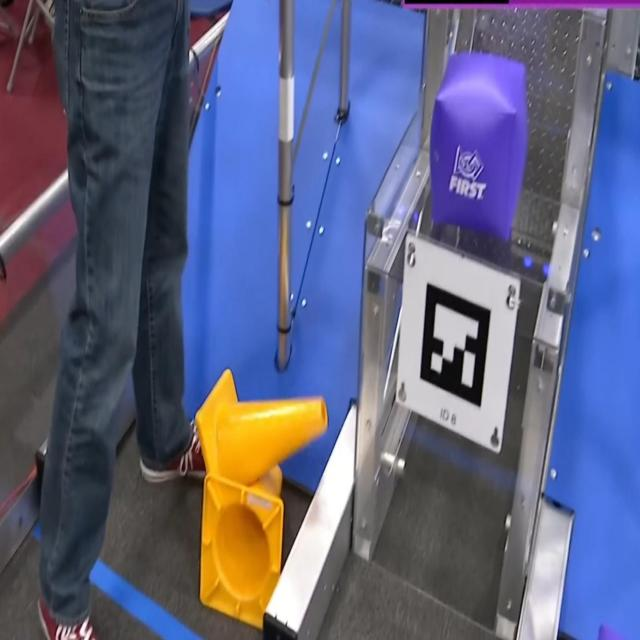frc_cone: (191, 369, 326, 490), (199, 471, 285, 622)
frc_cube: (432, 52, 526, 240)
